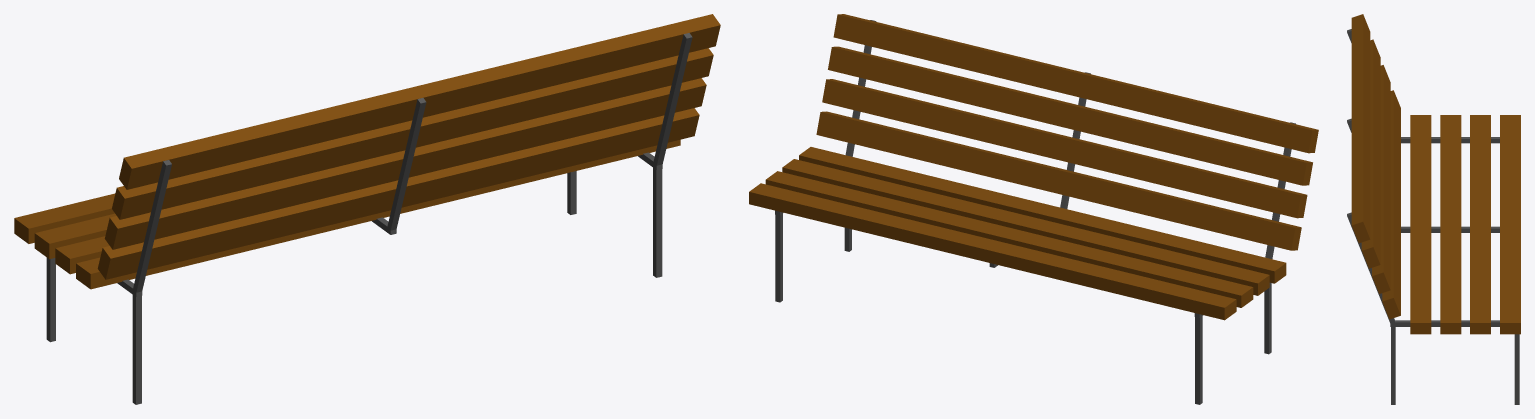
The picture shows the model from 3 angles, left to right: view 1: azimuth 30°, elevation 25°; view 2: azimuth 150°, elevation 25°; view 3: azimuth 270°, elevation 25°; orthographic projection. The views are drawn at different scales.
Parts seen in each view (by area): view 1: bench; view 2: bench; view 3: bench.
Boxes of the visible parts, <box> form: bench: <box>14,14,720,404</box>; bench: <box>749,14,1318,404</box>; bench: <box>1347,14,1520,404</box>.
Bounding box in the file's own units: 1.8 × 0.7842 × 0.6357.
